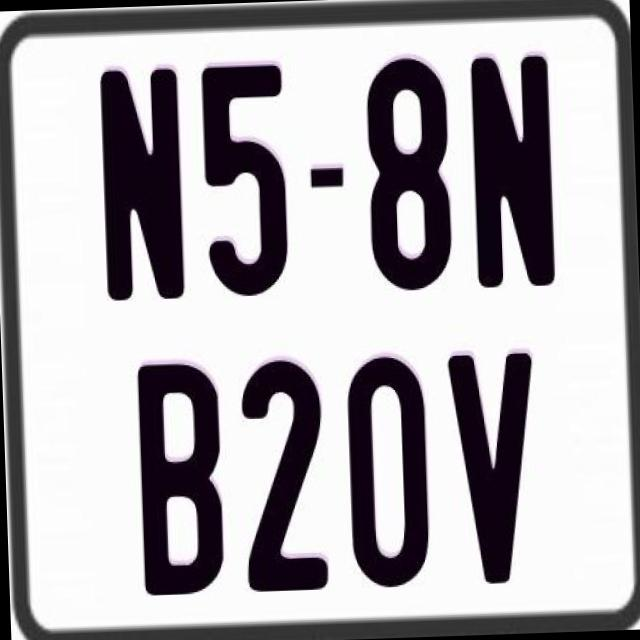0: (344, 354, 432, 592)
2: (239, 356, 335, 596)
5: (199, 60, 291, 297)
8: (362, 55, 452, 296)
B: (134, 358, 226, 598)
N: (96, 62, 190, 302), (466, 51, 554, 285)
V: (446, 350, 542, 592)
